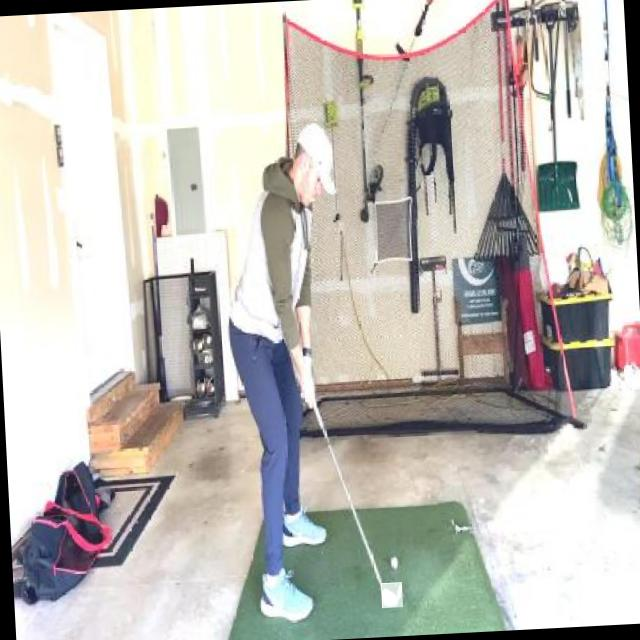club head: (381, 582, 403, 608)
